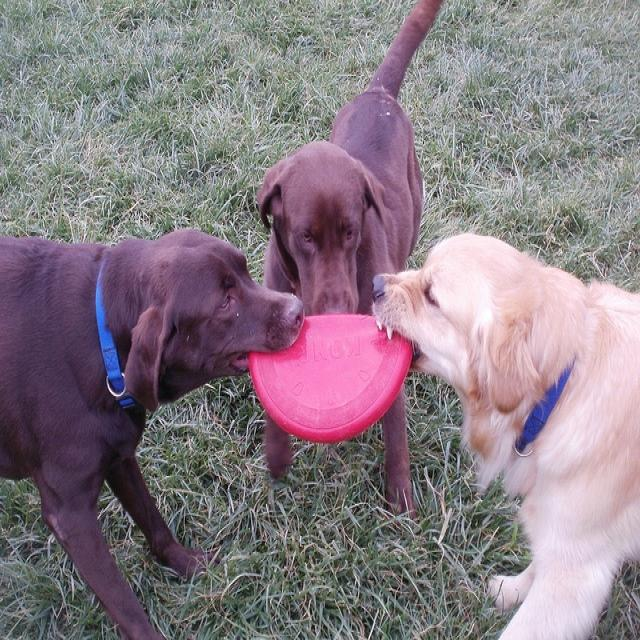dog: (0, 223, 302, 632), (368, 229, 637, 632), (250, 0, 442, 516)
